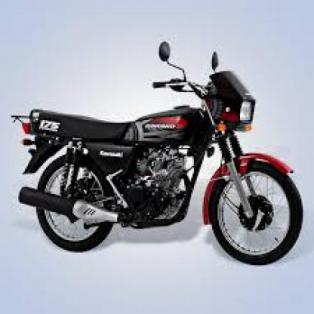Motocicleta: (11, 42, 311, 272)
